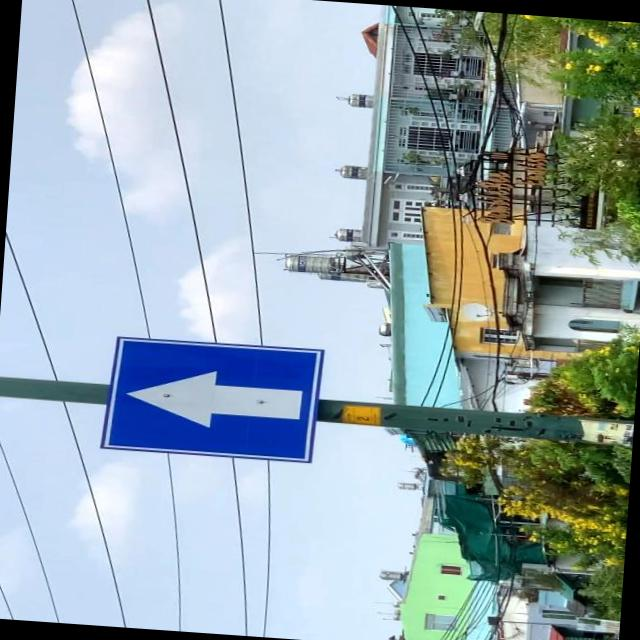I-407a: (104, 337, 318, 466)
